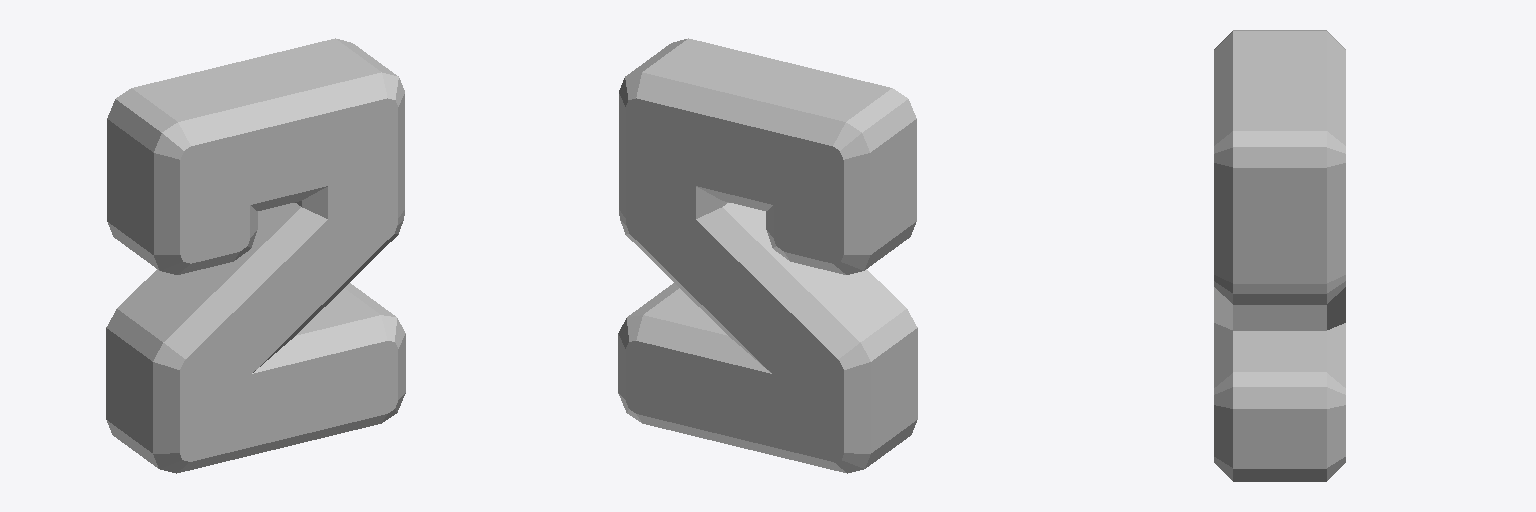
Rendered from fullStomach2.obj.
3 views of the same model, side by side, from view 1: azimuth 30°, elevation 25°; view 2: azimuth 150°, elevation 25°; view 3: azimuth 270°, elevation 25° (orthographic).
Parts seen in each view (by area): view 1: テキスト; view 2: テキスト; view 3: テキスト.
Part boxes in pixels (x1,y1,x2,y2): テキスト: (106,38,405,473); テキスト: (618,38,917,473); テキスト: (1214,30,1345,481).
Size of the model in its own units: 1.63 by 2.17 by 0.74.